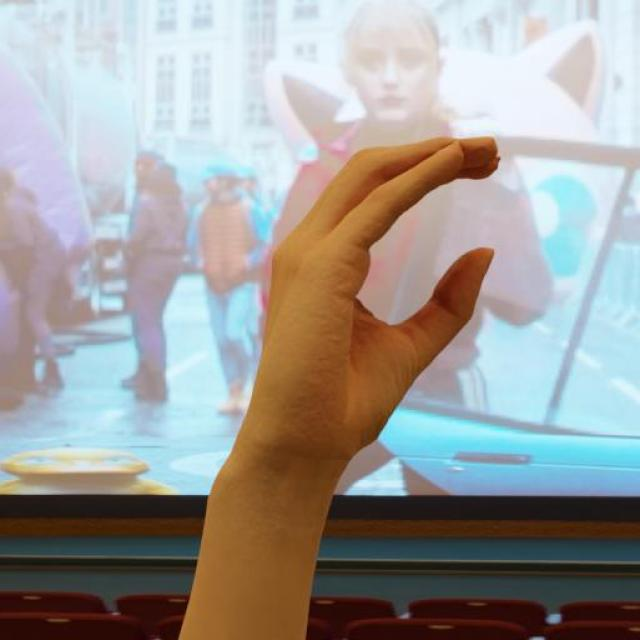C: (236, 134, 514, 486)
